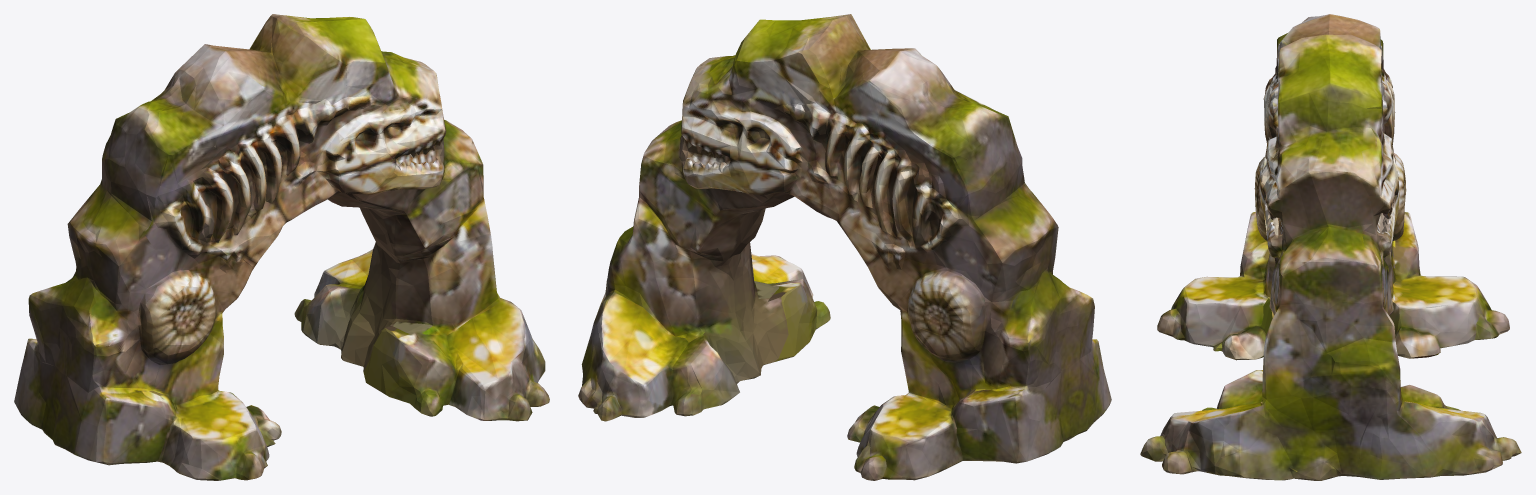
Rendered from dino_fossil_arch_1117.glb.
The picture shows the model from 3 angles, left to right: view 1: azimuth 30°, elevation 25°; view 2: azimuth 150°, elevation 25°; view 3: azimuth 270°, elevation 25°; orthographic projection.
Parts seen in each view (by area): view 1: tmp4vy30zmy.ply; view 2: tmp4vy30zmy.ply; view 3: tmp4vy30zmy.ply.
Boxes of the visible parts, x1=… form: tmp4vy30zmy.ply: x1=14, y1=14, x2=549, y2=480; tmp4vy30zmy.ply: x1=578, y1=14, x2=1111, y2=480; tmp4vy30zmy.ply: x1=1140, y1=14, x2=1521, y2=480.
Bounding box in the file's own units: 2 × 1.54 × 1.49.
Materials: 1 (1 with a texture image).
